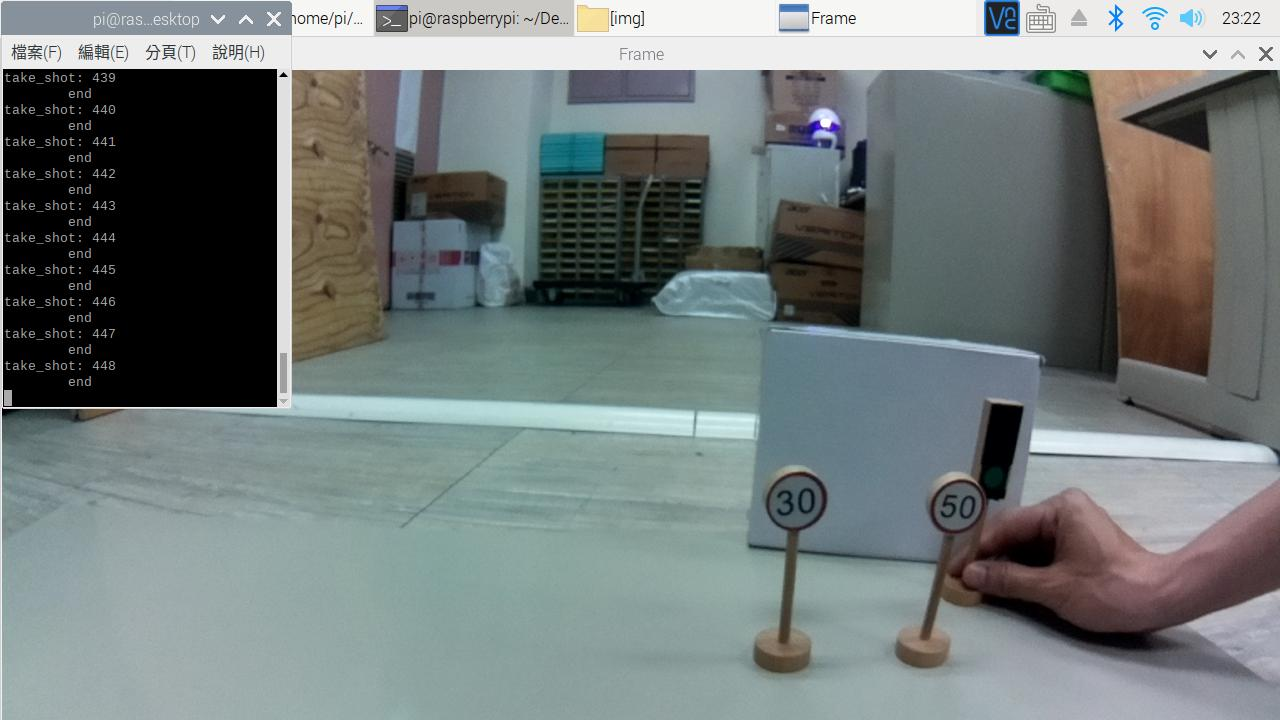Green: (971, 388, 1029, 500)
Speed30: (748, 462, 834, 538)
Speed50: (926, 475, 988, 539)
